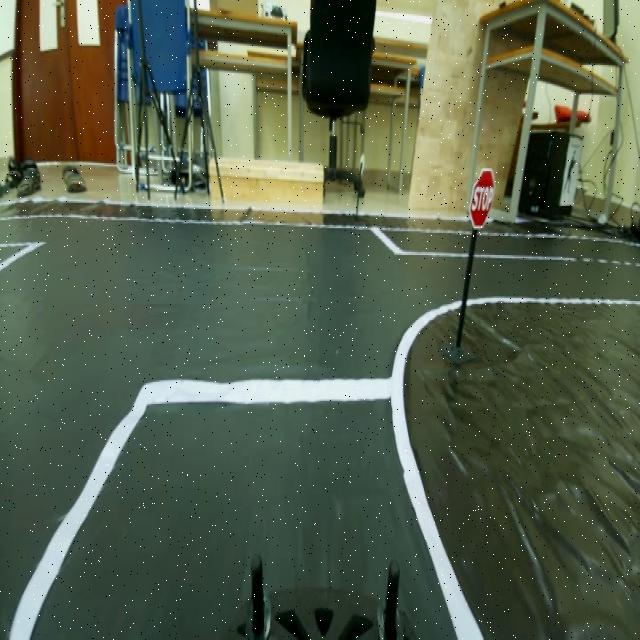stop: (463, 160, 500, 242)
